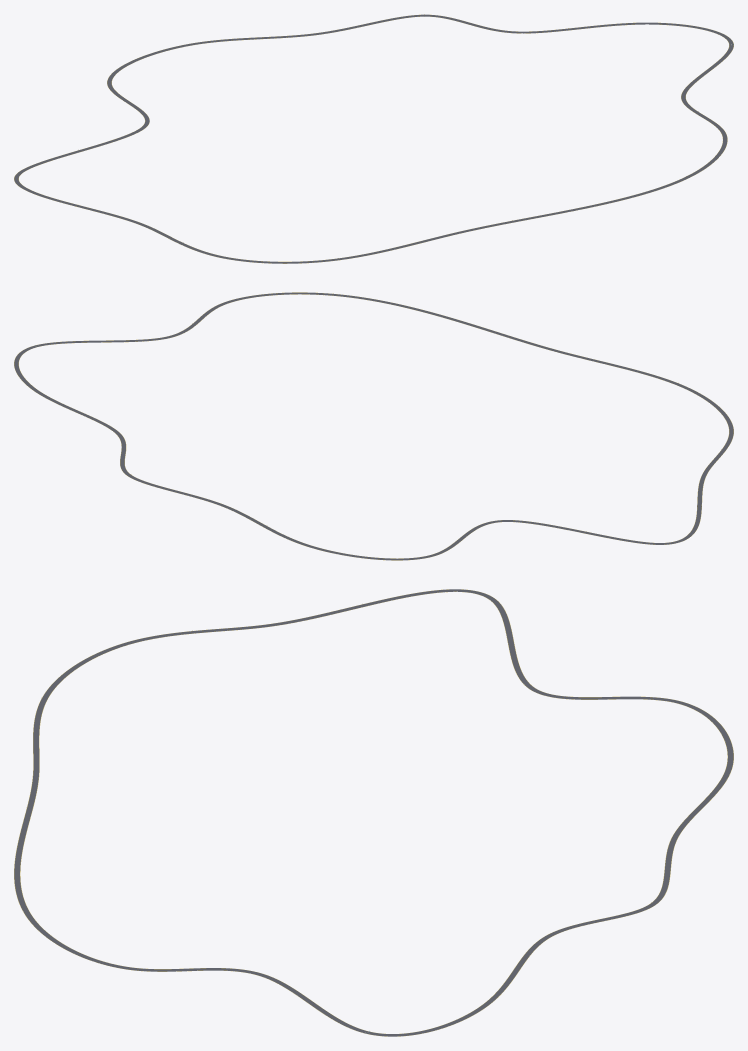
The model's file is Neon_Ring_Express.glb.
3 views of the same model, one above another, from view 1: azimuth 30°, elevation 25°; view 2: azimuth 150°, elevation 25°; view 3: azimuth 270°, elevation 25° (orthographic). The views are drawn at different scales.
Parts seen in each view (by area): view 1: road_surface, inner_shoulder, outer_shoulder; view 2: road_surface, inner_shoulder, outer_shoulder; view 3: road_surface, inner_shoulder, outer_shoulder.
Boxes of the visible parts, left/top/right/bottom form: road_surface: left=14, top=14, right=733, bottom=263; inner_shoulder: left=14, top=14, right=733, bottom=263; outer_shoulder: left=18, top=16, right=729, bottom=261; road_surface: left=14, top=292, right=733, bottom=560; inner_shoulder: left=14, top=292, right=733, bottom=560; outer_shoulder: left=18, top=294, right=729, bottom=558; road_surface: left=14, top=589, right=733, bottom=1036; inner_shoulder: left=14, top=589, right=733, bottom=1036; outer_shoulder: left=20, top=591, right=727, bottom=1033.
Size of the model in its own units: 8813 by 21.12 by 5998.
